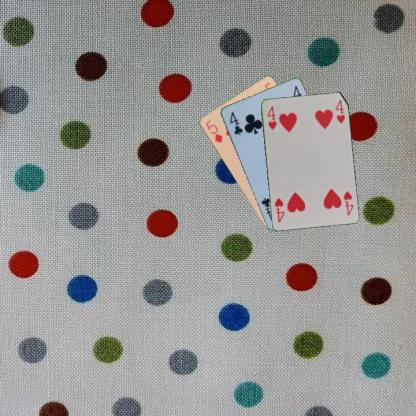4c: (226, 109, 244, 136)
4h: (340, 188, 354, 217), (264, 104, 278, 131)
5d: (202, 117, 223, 144)
